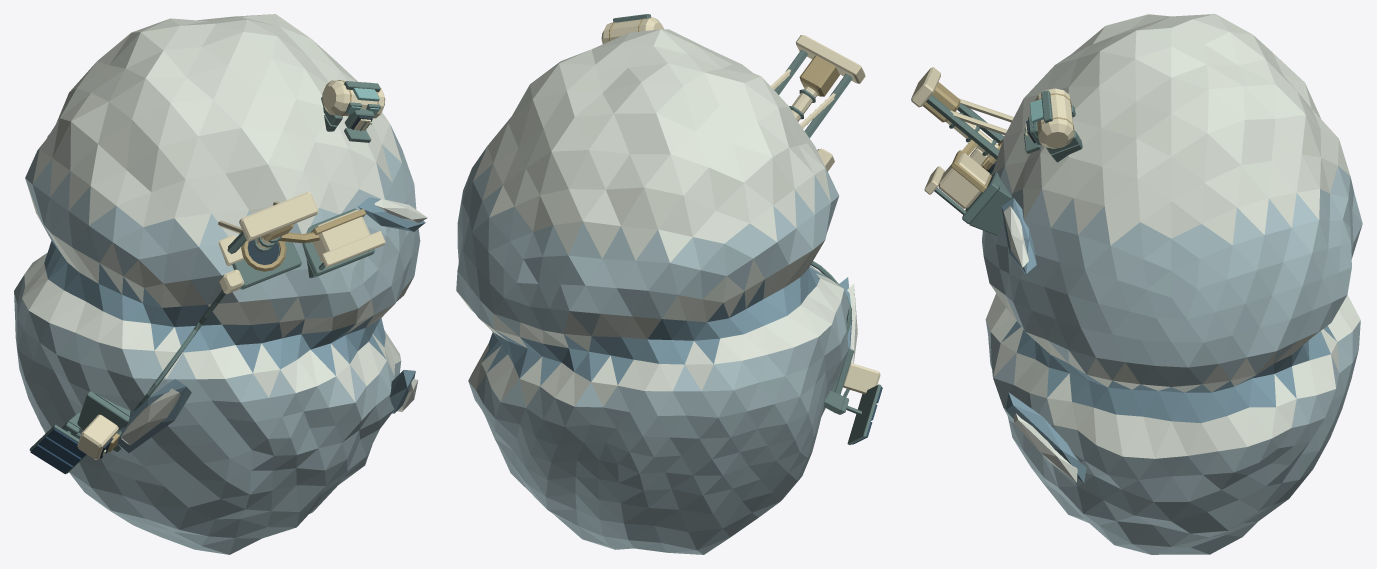
File: kuiper.glb
3 renders of one model, left to right at view 1: azimuth 30°, elevation 25°; view 2: azimuth 150°, elevation 25°; view 3: azimuth 270°, elevation 25°, orthographic. The views are drawn at different scales.
Parts seen in each view (by area): view 1: S10_kuiper • modeled surfaces; view 2: S10_kuiper • modeled surfaces; view 3: S10_kuiper • modeled surfaces.
Boxes of the visible parts, <box> form: S10_kuiper • modeled surfaces: <box>14,14,427,554</box>; S10_kuiper • modeled surfaces: <box>456,14,882,554</box>; S10_kuiper • modeled surfaces: <box>911,14,1362,554</box>.
Size of the model in its own units: 1.26 by 1.6 by 1.27.
